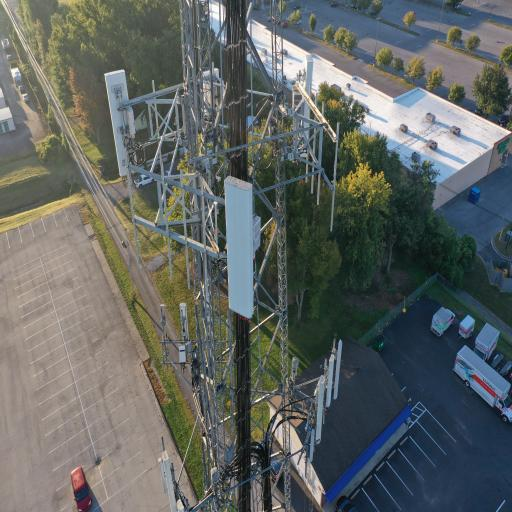supporting_tower: (106, 0, 338, 512)
